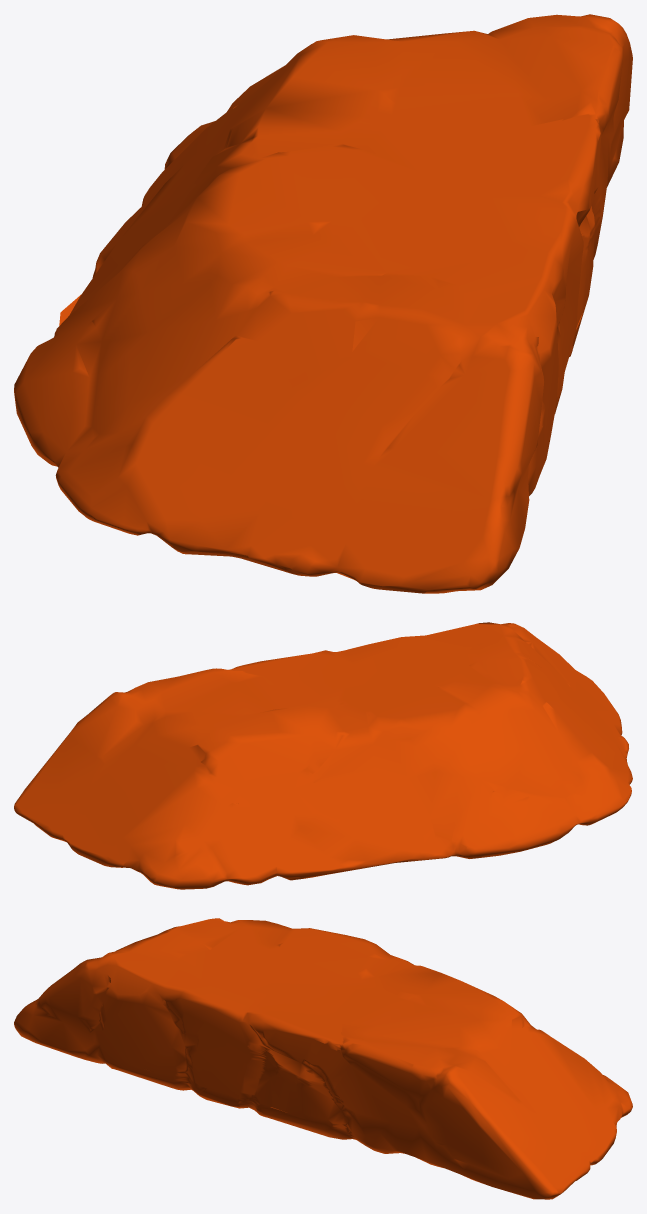
3 renders of one model, top to bottom at view 1: azimuth 30°, elevation 25°; view 2: azimuth 150°, elevation 25°; view 3: azimuth 270°, elevation 25°, orthographic. The views are drawn at different scales.
Visible parts, largest first — view 1: Mesh_49_LOD0; view 2: Mesh_49_LOD0; view 3: Mesh_49_LOD0.
Part boxes in pixels (box(x1,y1,x2,y2)): Mesh_49_LOD0: box(14, 14, 632, 593); Mesh_49_LOD0: box(14, 622, 632, 889); Mesh_49_LOD0: box(14, 918, 632, 1199).
Size of what is drawn, in the model's own units: 4129 by 998 by 4685.
